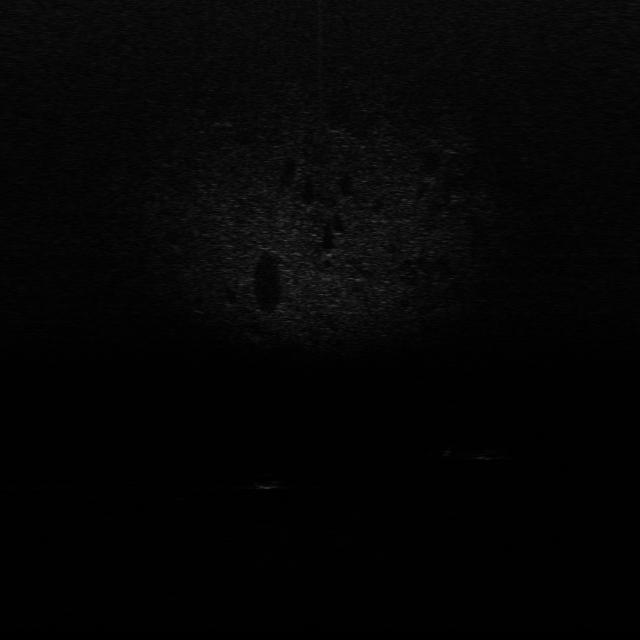ball: (254, 474, 287, 492)
human body: (438, 440, 518, 462)
